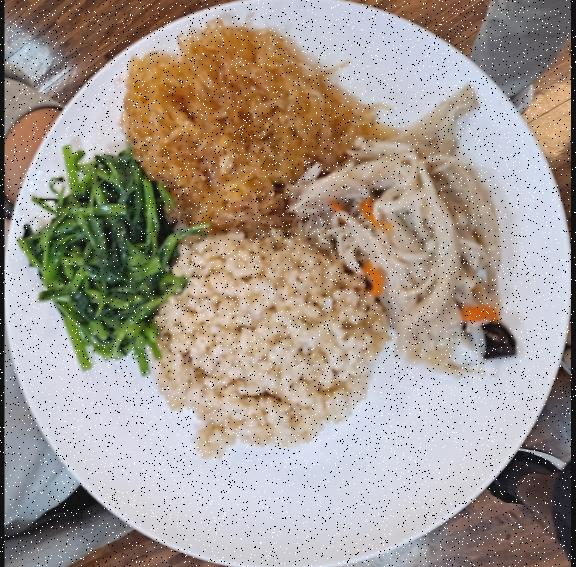brown rice: (147, 226, 382, 452)
plate: (12, 2, 569, 567)
side dish: (319, 122, 516, 383), (118, 30, 347, 214), (28, 152, 166, 364)
